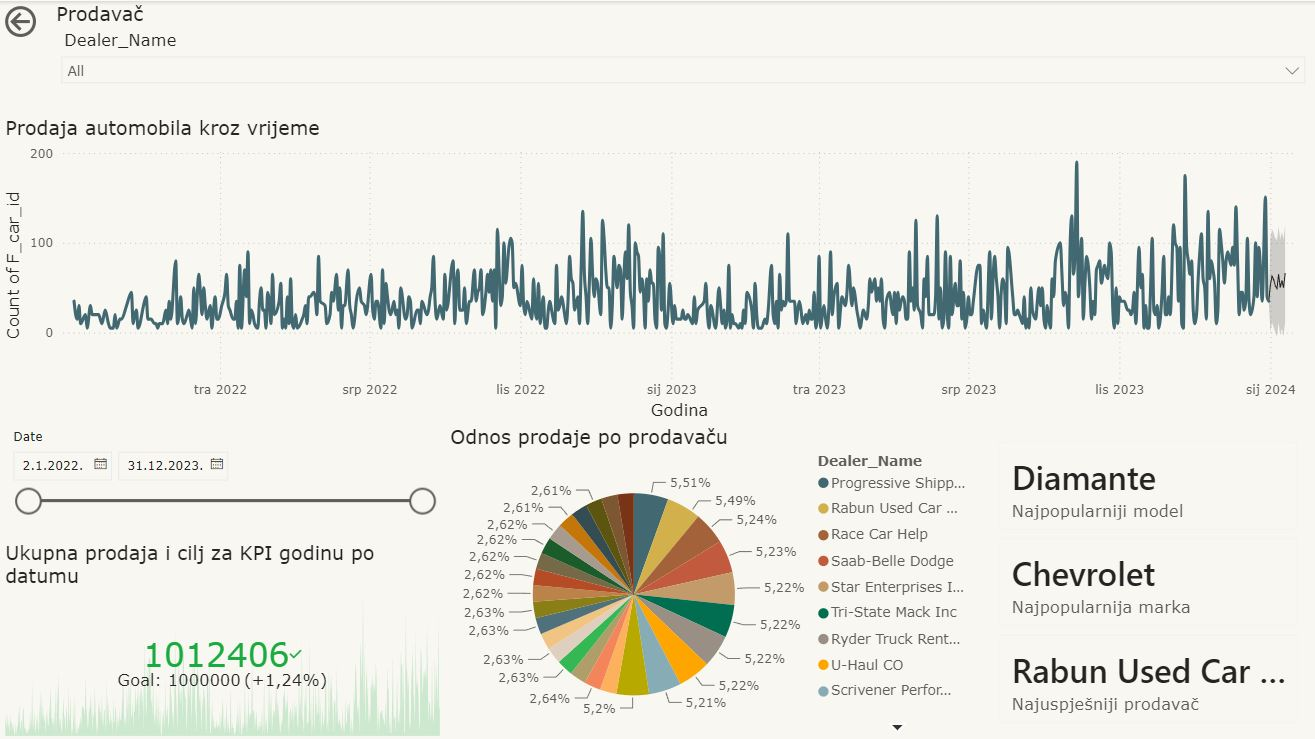

What the dashboard file says about the page in this screenshot:
{"tool":"powerbi","page":{"name":"Trend prodaje kroz vrijeme","canvas":[1280,720],"ordinal":2},"visuals":[{"type":"actionButton","box":[0,0,100,40],"z":0},{"type":"lineChart","title":"Prodaja automobila kroz vrijeme","fields":{"Y":["CountNonNull(fact_sale.F_car_id)"],"Category":["dim_date.Date.Varijacija.Hijerarhija datuma.Godina","dim_date.Date.Varijacija.Hijerarhija datuma.Tromjesečje","dim_date.Date.Varijacija.Hijerarhija datuma.Mjesec","dim_date.Date.Varijacija.Hijerarhija datuma.Dan"]},"box":[0,111.2,1280,300.3],"z":1000},{"type":"slicer","fields":{"Values":["dim_date.Date"]},"box":[0,411.4,432.8,112.8],"z":2000},{"type":"slicer","title":"Prodavač","fields":{"Values":["dim_dealer.Dealer_Name"]},"box":[50.1,0,1229.9,111.2],"z":3000},{"type":"cardVisual","fields":{"Data":["fact_sale.Najpopularniji model","fact_sale.Najpopularnija marka","fact_sale.Najuspješniji prodavač"]},"box":[954.2,411.4,325.8,308.3],"z":4000},{"type":"kpi","title":"Ukupna prodaja i cilj za KPI godinu po datumu","fields":{"TrendLine":["dim_date.Date"],"Goal":["fact_sale.Cilj za KPI godinu"],"Indicator":["fact_sale.Ukupna prodaja"]},"box":[0,524.3,432.8,195.5],"z":5000},{"type":"pieChart","title":"Odnos prodaje po prodavaču","fields":{"Y":["CountNonNull(fact_sale.F_car_id)"],"Category":["dim_dealer.Dealer_Name"]},"box":[432.8,411.4,521.3,308.3],"z":6000}]}

Visuals, with their boxes in screenshot pixels (x1, y1, x2, y2), scaled from the page's 1280x720 canvas onto the 1315x739 screenshot:
actionButton: locate(0, 0, 103, 41)
"Prodaja automobila kroz vrijeme" lineChart: locate(0, 114, 1314, 422)
slicer - dim_date.Date: locate(0, 422, 445, 538)
"Prodavač" slicer: locate(51, 0, 1314, 114)
cardVisual - fact_sale.Najpopularniji model x fact_sale.Najpopularnija marka: locate(980, 422, 1314, 738)
"Ukupna prodaja i cilj za KPI godinu po datumu" kpi: locate(0, 538, 445, 738)
"Odnos prodaje po prodavaču" pieChart: locate(445, 422, 980, 738)
